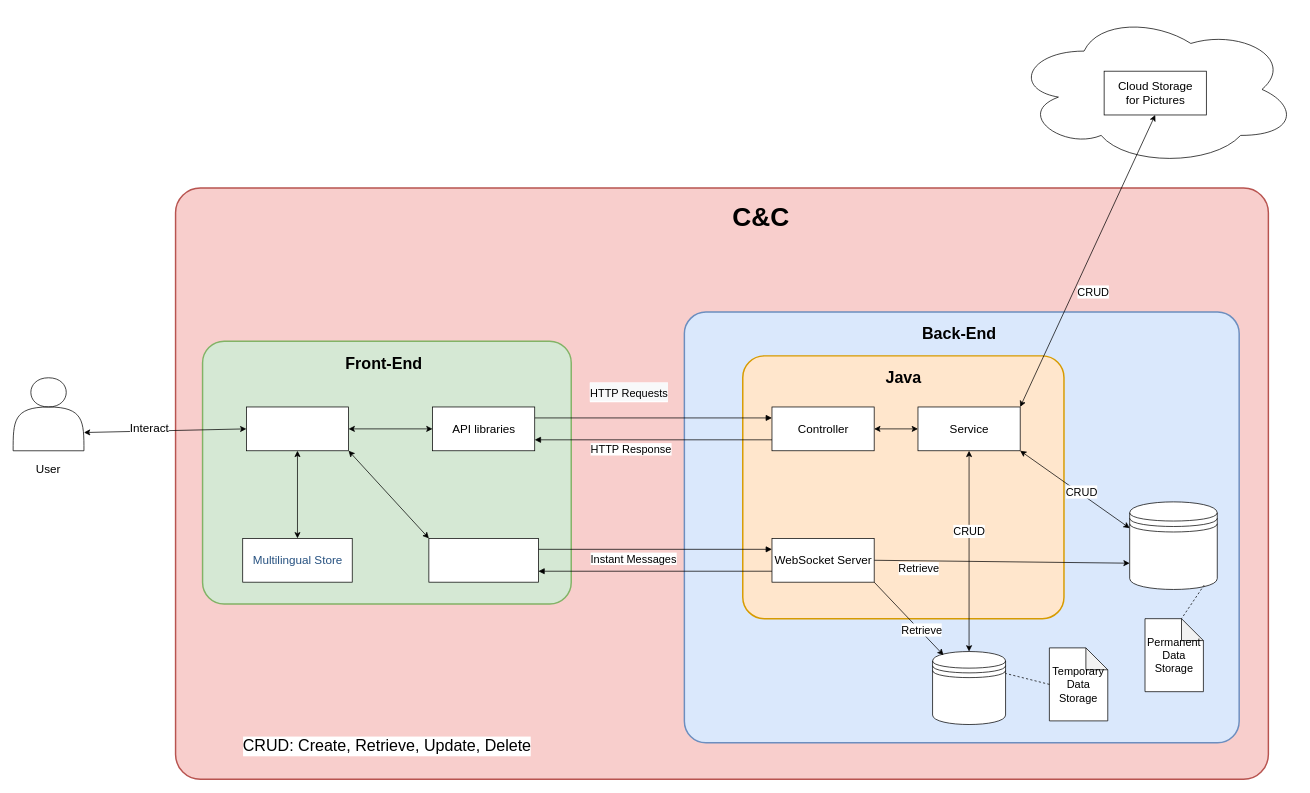
The diagram is 1310 pixels wide and 793 high, and some of its shapes have lost their labels. The shapes that lost their labels are listed below. From the top down, each one's centre as x and y in pixels, then its label:
At point 297,428: "Vue Pages".
At point 483,560: "WebSocket Client".
At point 1173,545: "MYSQL".
At point 969,688: "Redis".
